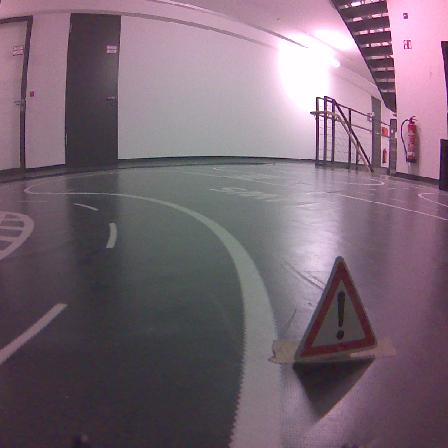ATTENTION: (294, 257, 376, 361)
